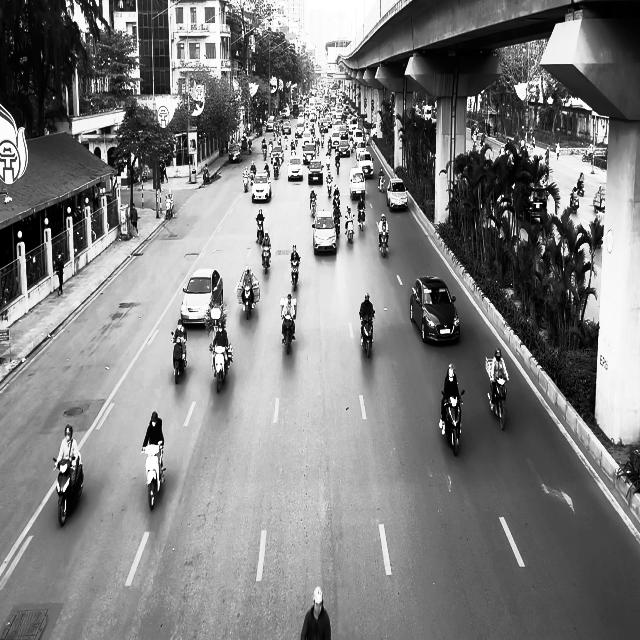car: (409, 275, 460, 344), (180, 268, 223, 326), (312, 209, 337, 254), (386, 177, 408, 210), (251, 172, 271, 202), (349, 167, 366, 200), (287, 156, 303, 180), (228, 144, 242, 162)
motorbike: (52, 453, 84, 527), (485, 357, 508, 430), (142, 442, 166, 510), (440, 388, 464, 456), (211, 343, 233, 393), (171, 331, 187, 384), (360, 311, 374, 358), (281, 314, 296, 354), (242, 284, 255, 319), (290, 258, 300, 290), (378, 229, 389, 258), (261, 244, 271, 273), (345, 216, 354, 243), (256, 217, 264, 243), (357, 207, 365, 231), (570, 192, 579, 212), (326, 175, 332, 197), (243, 171, 249, 192), (378, 177, 384, 192)
